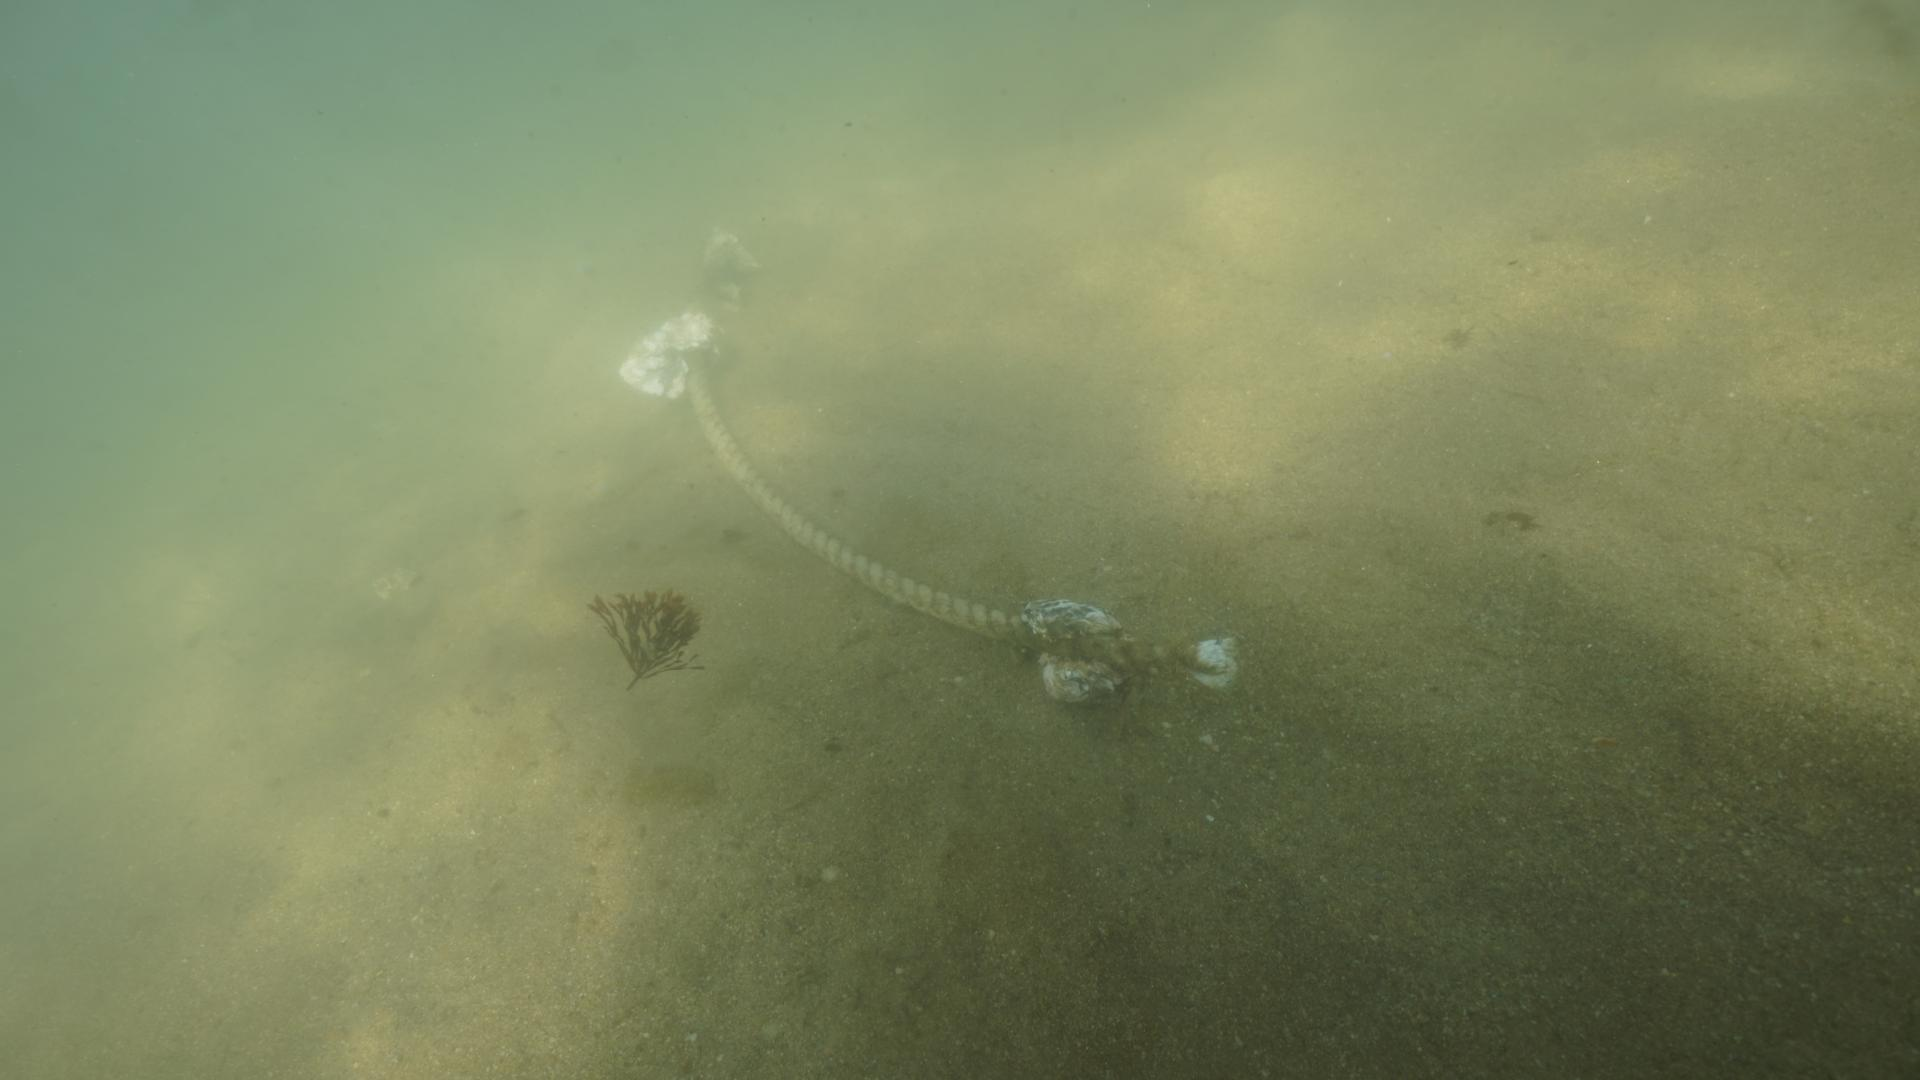rope: (679, 339, 1127, 661)
